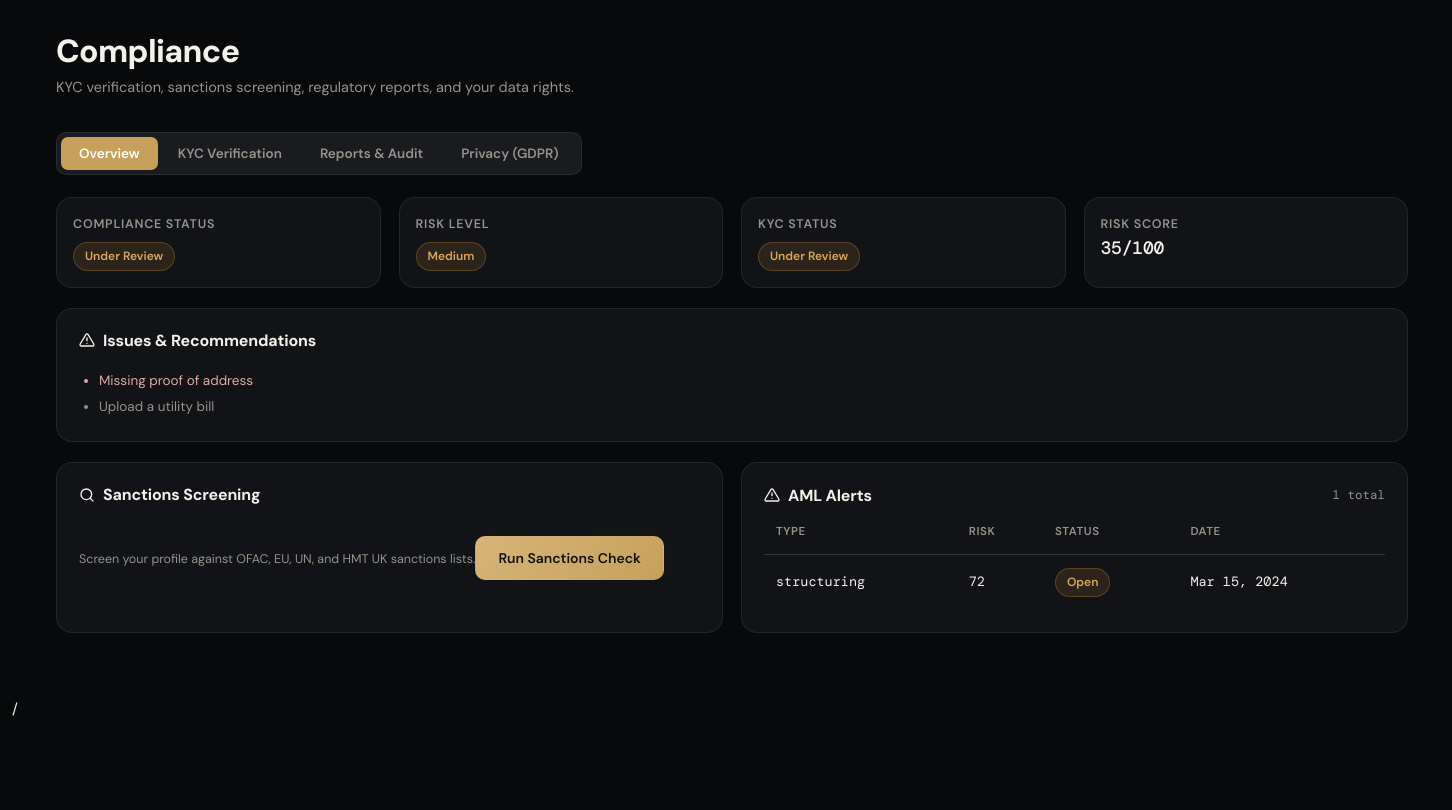
Test: overview tab › sanctions › reports a clean result with the lists checked
Expected: the heading "Sanctions Screening" is shown, [79,485,260,504]
Click the button "Run Sanctions Check" at (570, 558), box [475,536,664,580]
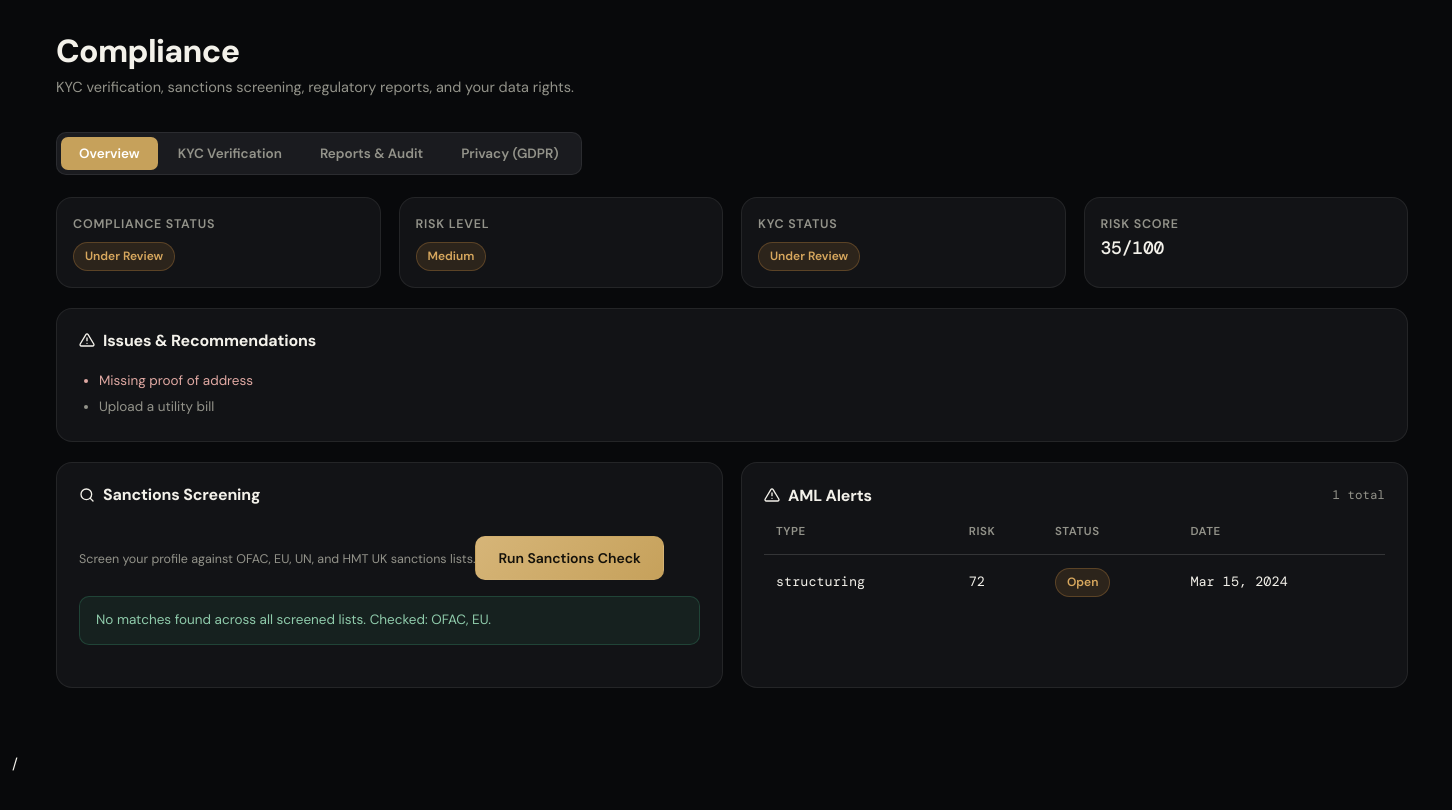
Now the text "No matches found across all screened lists." is shown, box [96,611,366,628]
Now the text "Checked: OFAC, EU." is shown, box [79,596,700,645]
